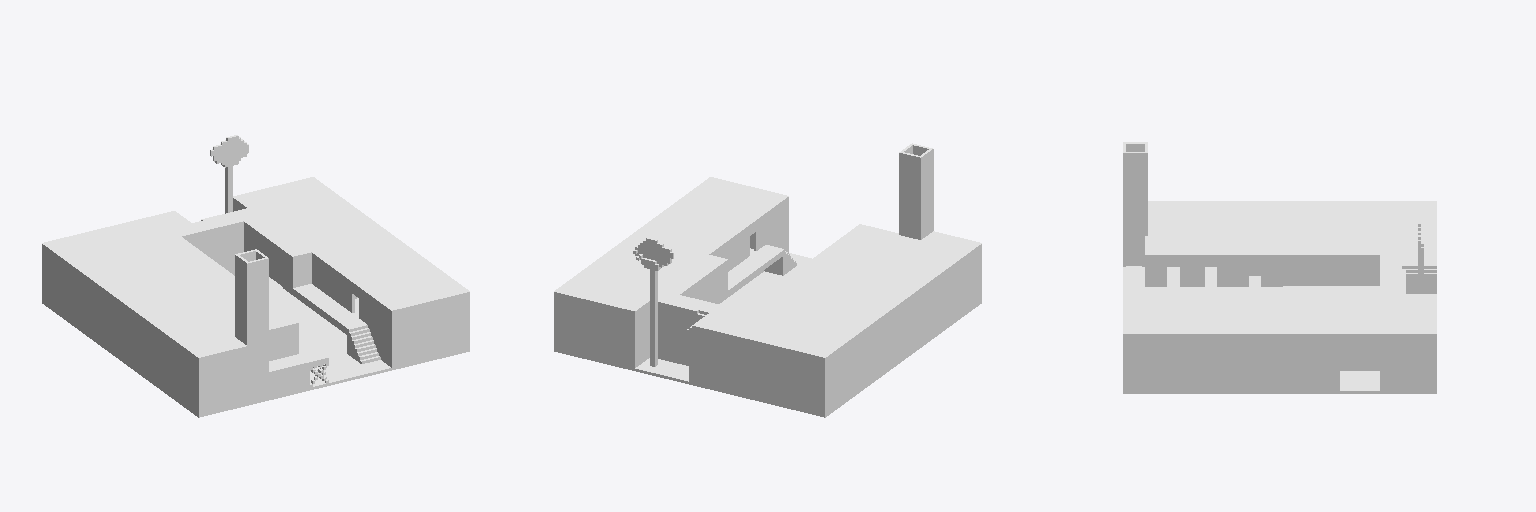
File: MotelSimMap.obj
The picture shows the model from 3 angles: view 1: azimuth 30°, elevation 25°; view 2: azimuth 150°, elevation 25°; view 3: azimuth 270°, elevation 25°; orthographic projection.
Size of the model in its own units: 100 by 50 by 100.